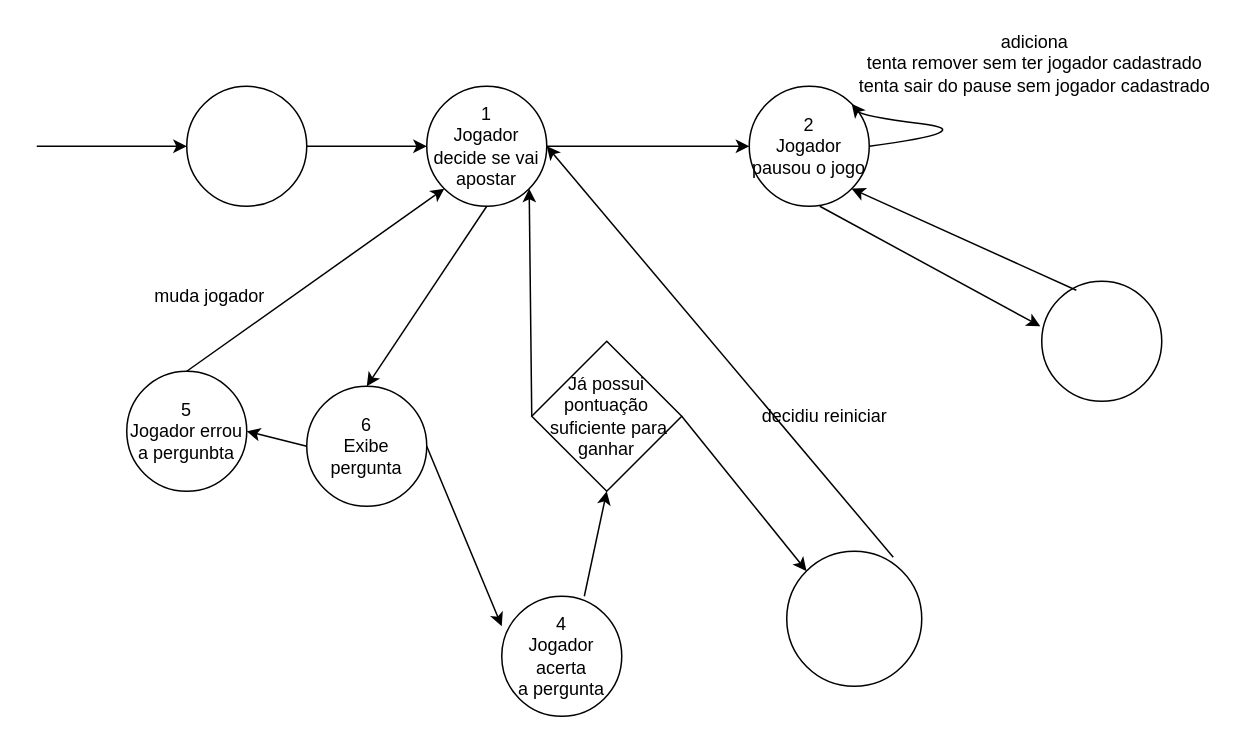
The diagram is 1248 pixels wide and 743 high, and some of its shapes have lost their labels. The centre of each missing label's shape, as x and y in pixels:
"0 Cadastro de jogadores" goes at (x=246, y=145).
"3 Remover jogador" goes at (x=1101, y=340).
"7 Jogador ganha" goes at (x=853, y=618).
